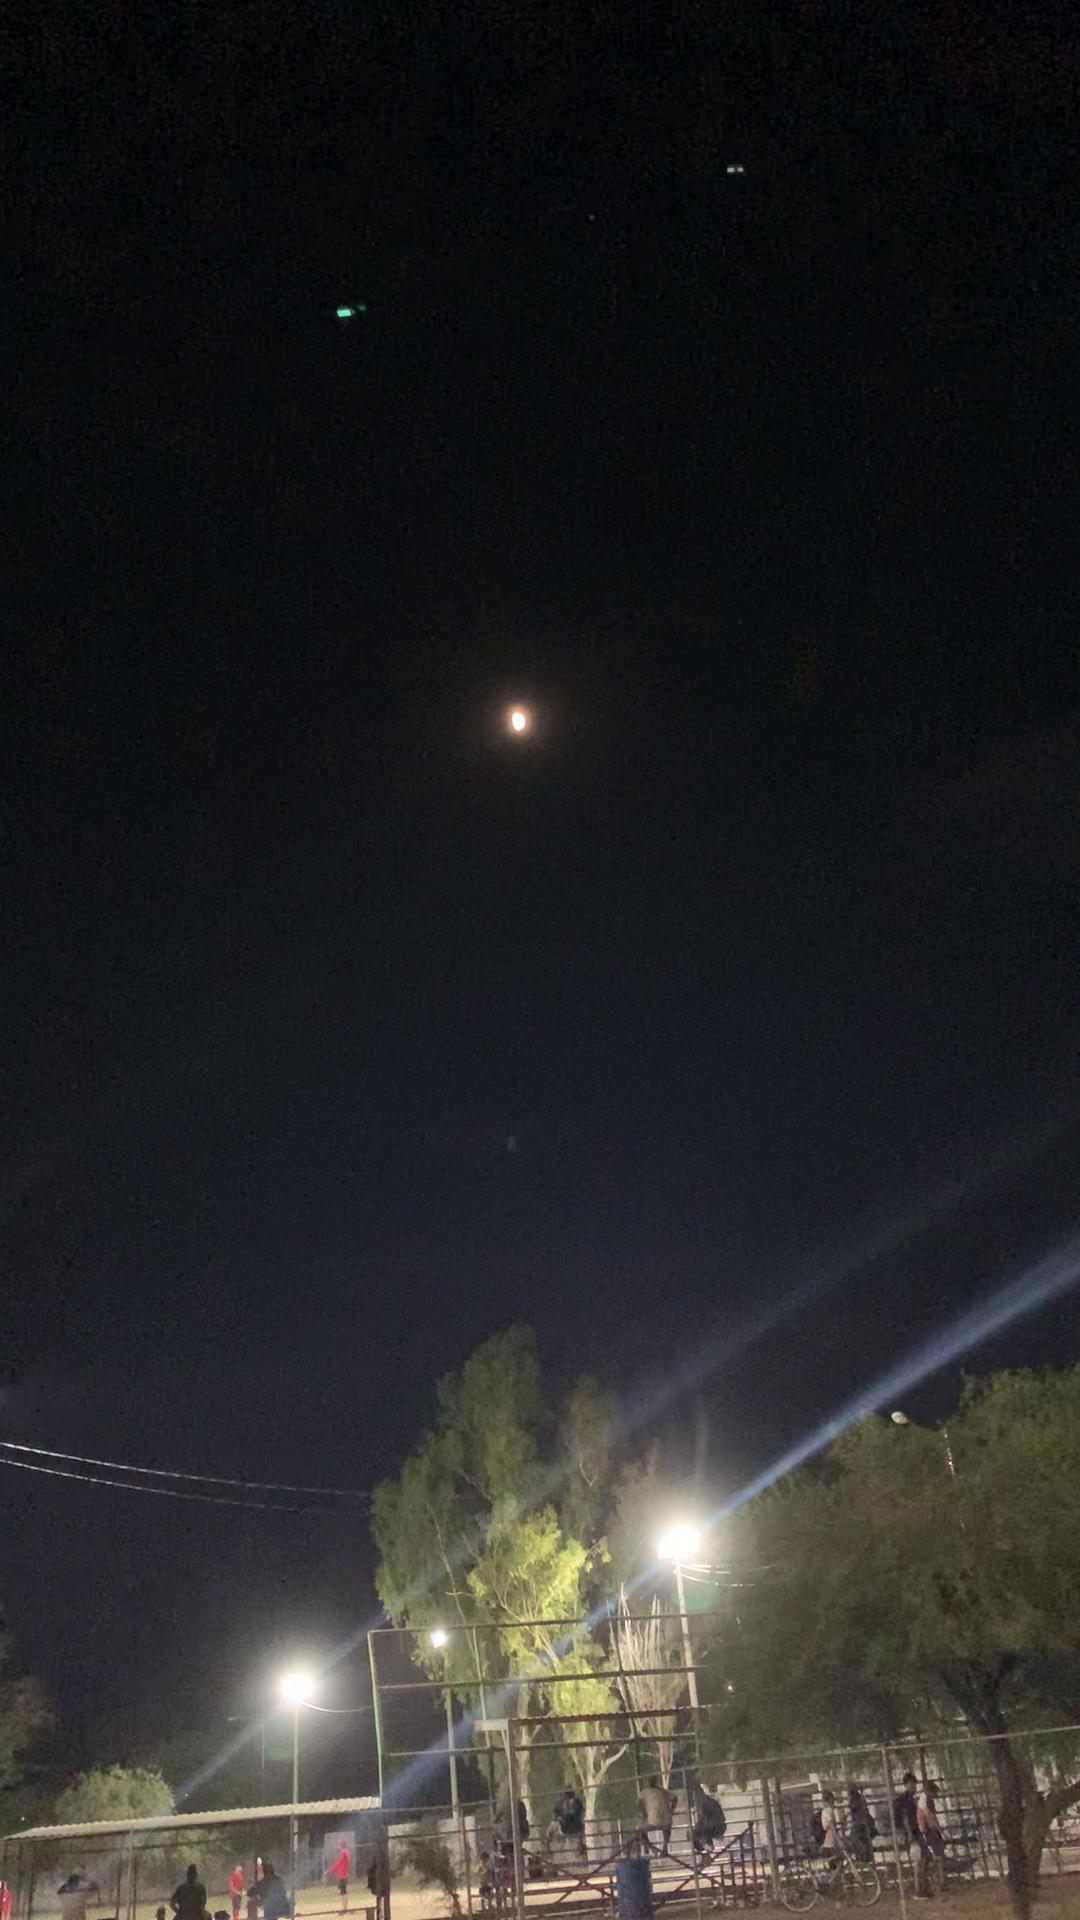moon: (489, 686, 551, 761)
